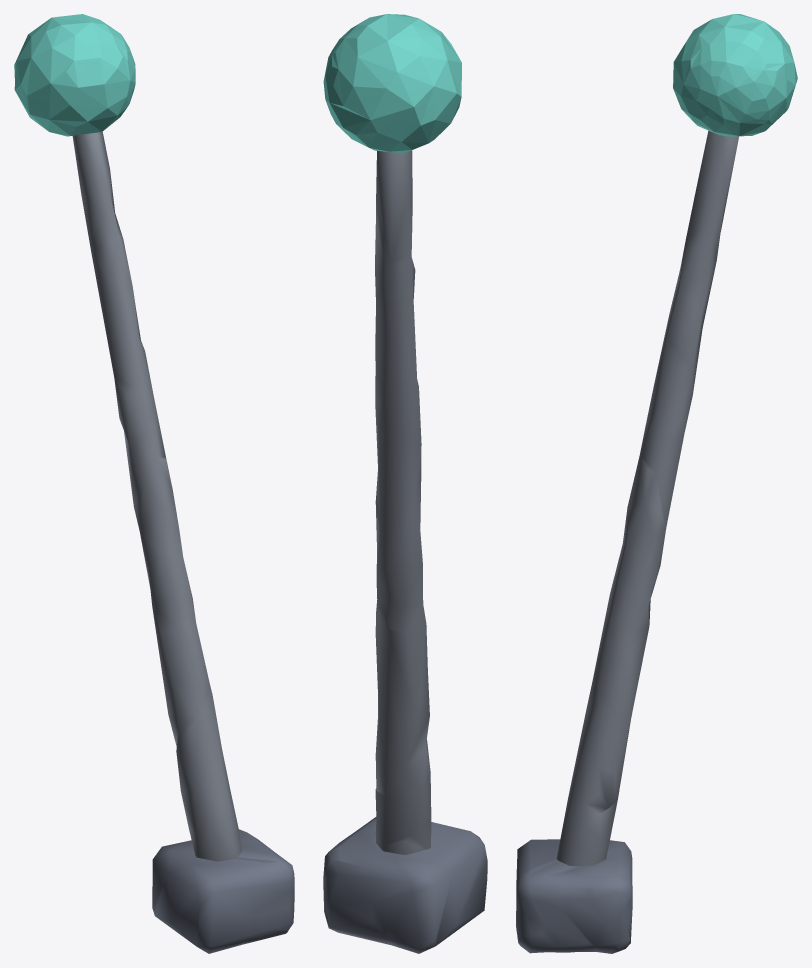
File: tenue_ardoise.glb
3 views of the same model, side by side, from view 1: azimuth 30°, elevation 25°; view 2: azimuth 150°, elevation 25°; view 3: azimuth 270°, elevation 25° (orthographic). The views are drawn at different scales.
Parts seen in each view (by area): view 1: torso__sac, torso__sac_glow; view 2: torso__sac, torso__sac_glow; view 3: torso__sac, torso__sac_glow.
Part boxes in pixels (bbox=[...]): torso__sac: bbox=[72, 132, 294, 953]; torso__sac_glow: bbox=[14, 14, 135, 136]; torso__sac: bbox=[323, 150, 487, 953]; torso__sac_glow: bbox=[323, 14, 461, 153]; torso__sac: bbox=[516, 130, 738, 953]; torso__sac_glow: bbox=[673, 14, 797, 136].
Size of the model in its own units: 0.1054 by 0.5006 by 0.1454.
